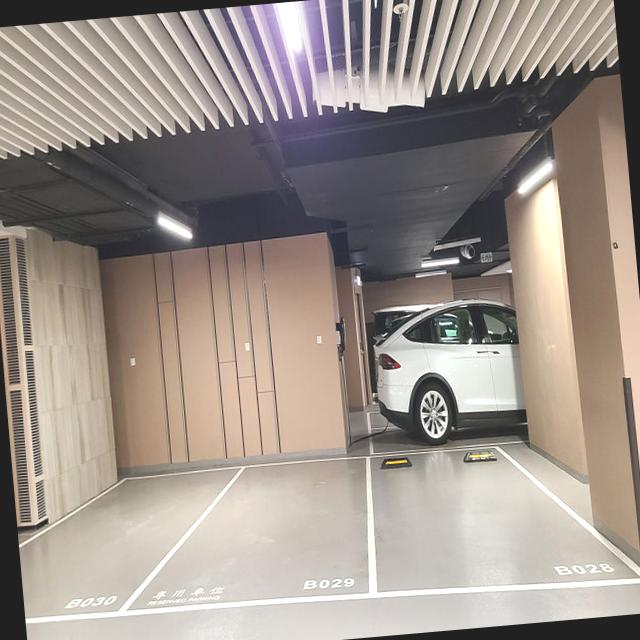free: (363, 441, 640, 602), (108, 454, 380, 617), (19, 466, 249, 625)
